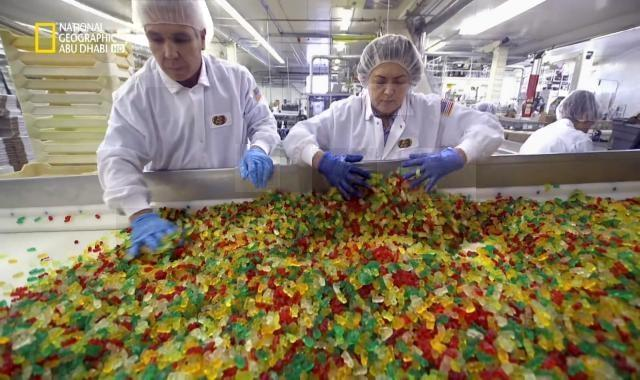apron: (116, 208, 186, 264), (401, 149, 476, 201), (313, 148, 378, 201), (236, 145, 281, 193)
gloves: (127, 1, 220, 49), (354, 34, 424, 94), (557, 90, 601, 128)
no_hairnet: (147, 42, 206, 88), (366, 85, 414, 116)
